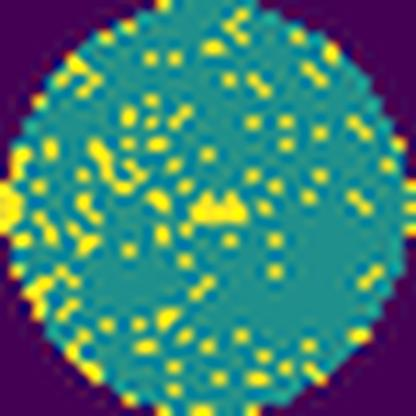Center: (180, 190, 250, 232)
